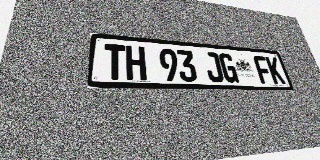3: (176, 49, 198, 82)
9: (159, 48, 180, 81)
F: (253, 56, 274, 84)
G: (218, 53, 239, 83)
H: (126, 45, 147, 81)
J: (203, 52, 225, 82)
K: (265, 57, 286, 84)
T: (104, 44, 126, 80)
